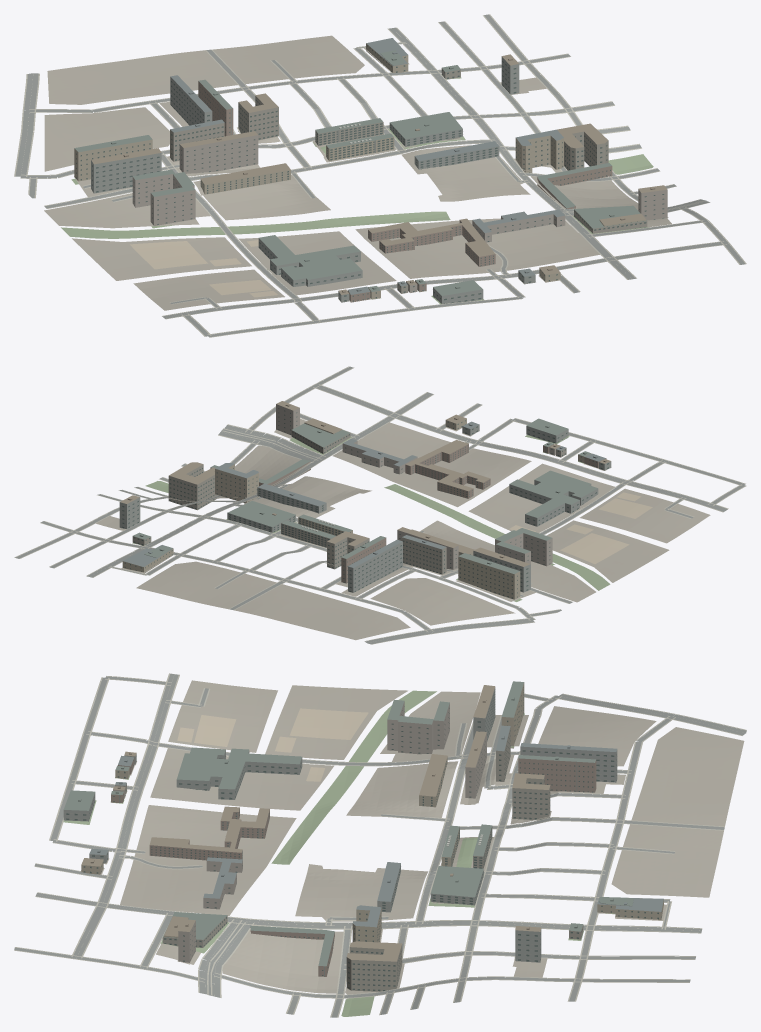
3 views of the same model, one above another, from view 1: azimuth 30°, elevation 25°; view 2: azimuth 150°, elevation 25°; view 3: azimuth 270°, elevation 25° (orthographic). The views are drawn at different scales.
Visible parts, largest first — view 1: context-building-plinths, context-osm-buildings, context-osm-roads, context-osm-sidewalks; view 2: context-building-plinths, context-osm-buildings, context-osm-roads, context-osm-sidewalks; view 3: context-building-plinths, context-osm-buildings, context-osm-roads, context-osm-sidewalks.
Boxes of the visible parts, x1=… form: context-building-plinths: x1=44, y1=35, x2=671, y2=310; context-osm-buildings: x1=74, y1=38, x2=667, y2=303; context-osm-roads: x1=15, y1=14, x2=745, y2=337; context-osm-sidewalks: x1=14, y1=14, x2=746, y2=337; context-building-plinths: x1=96, y1=418, x2=710, y2=640; context-osm-buildings: x1=119, y1=401, x2=611, y2=599; context-osm-roads: x1=15, y1=366, x2=745, y2=644; context-osm-sidewalks: x1=14, y1=366, x2=746, y2=644; context-building-plinths: x1=63, y1=680, x2=744, y2=1016; context-osm-buildings: x1=63, y1=681, x2=663, y2=991; context-osm-roads: x1=14, y1=673, x2=746, y2=1017; context-osm-sidewalks: x1=14, y1=673, x2=746, y2=1017.
Size of the model in its own units: 768 by 103 by 776.
